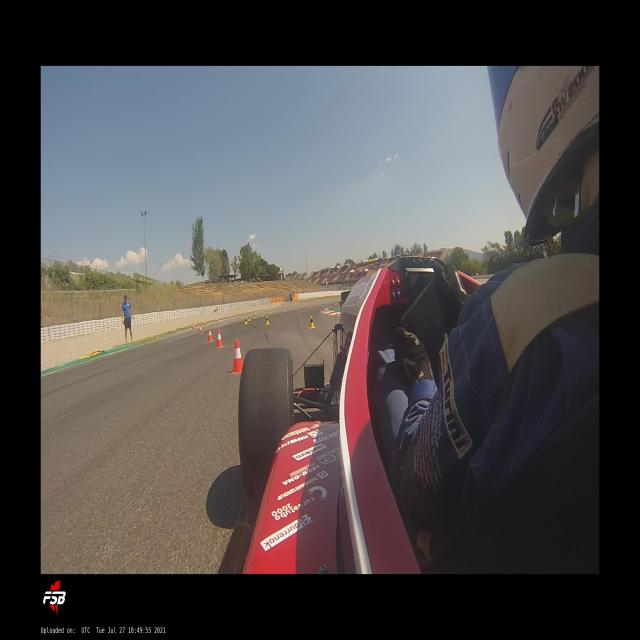orange_cone: (232, 339, 242, 373), (215, 329, 225, 348), (207, 328, 214, 343), (199, 325, 202, 334), (192, 323, 195, 330), (203, 320, 206, 327)
yellow_cone: (309, 314, 315, 328), (265, 315, 270, 325), (245, 317, 248, 324), (253, 314, 256, 320), (248, 316, 250, 322), (262, 312, 264, 317)
